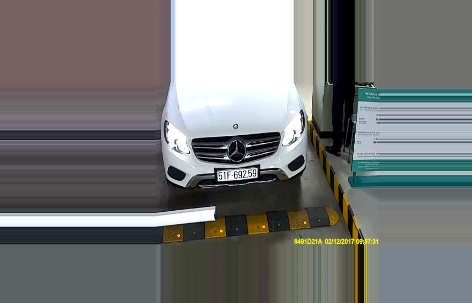plate: (212, 168, 259, 183)
